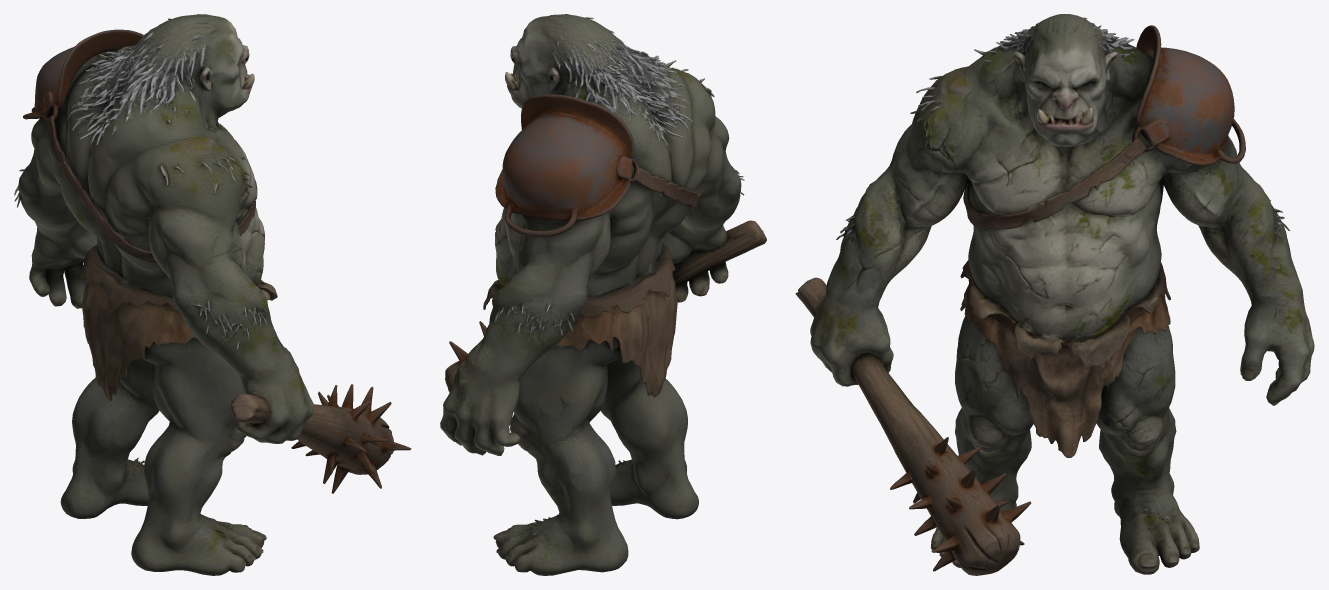
The model's file is ogre-original.glb.
3 renders of one model, left to right at view 1: azimuth 30°, elevation 25°; view 2: azimuth 150°, elevation 25°; view 3: azimuth 270°, elevation 25°, orthographic. The views are drawn at different scales.
Visible parts, largest first — view 1: tripo_node_5816af14-f81a-4fc8-bf7b-02c1b1f6b72c; view 2: tripo_node_5816af14-f81a-4fc8-bf7b-02c1b1f6b72c; view 3: tripo_node_5816af14-f81a-4fc8-bf7b-02c1b1f6b72c.
Part boxes in pixels (x1,y1,x2,y2): tripo_node_5816af14-f81a-4fc8-bf7b-02c1b1f6b72c: (14,14,411,575); tripo_node_5816af14-f81a-4fc8-bf7b-02c1b1f6b72c: (440,14,766,575); tripo_node_5816af14-f81a-4fc8-bf7b-02c1b1f6b72c: (795,14,1314,575).
Size of the model in its own units: 0.5595 by 1 by 0.8683.
Materials: 1 (1 with a texture image).
